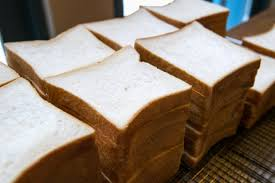bread: (0, 3, 270, 180)
